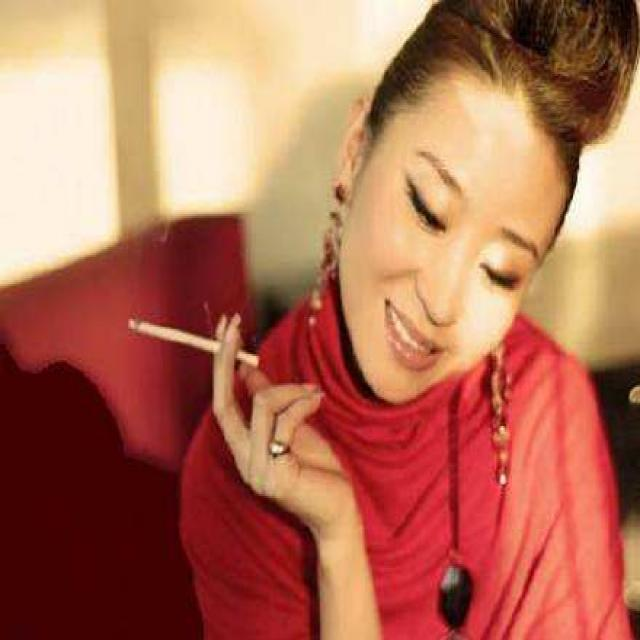cigarette: (128, 304, 264, 381)
